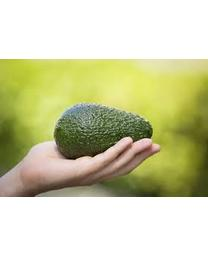avocado: (52, 103, 154, 160)
